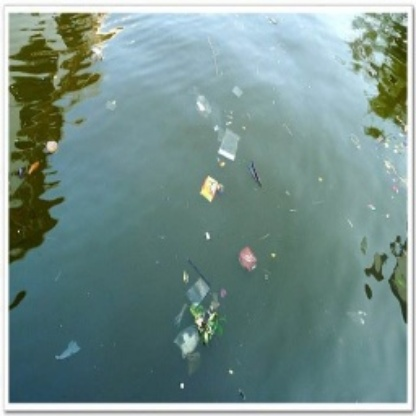plastic-bag: (198, 171, 225, 204)
